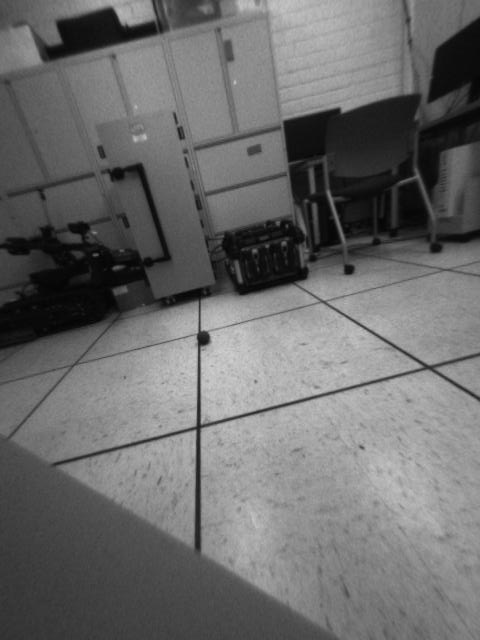dogtoy: (185, 319, 222, 350)
